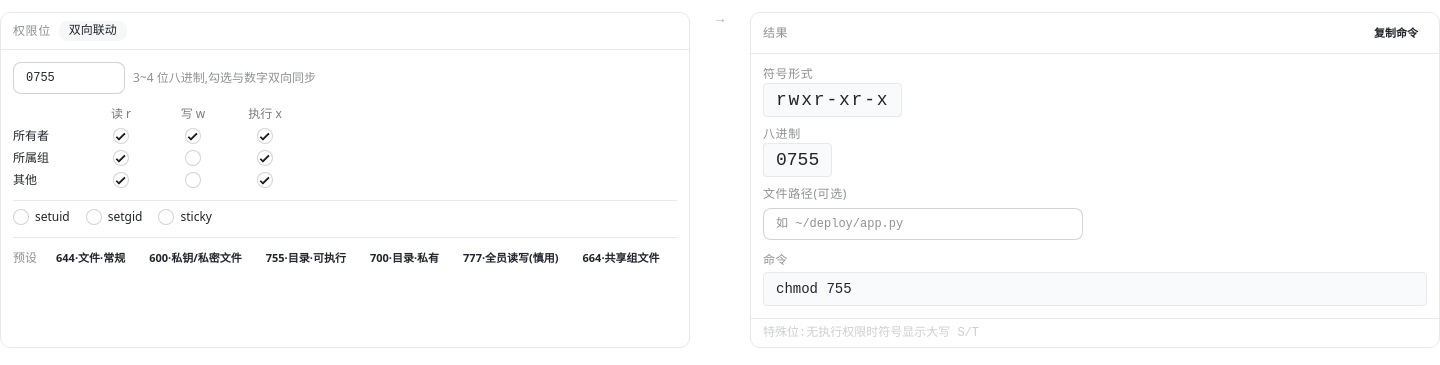
Scenario: ChmodCalc 权限互算 › 八进制输入 644 实时联动符号形式
Replace the text in the field named "八进制" with "644" at point(69, 78), box [13,62,125,94]
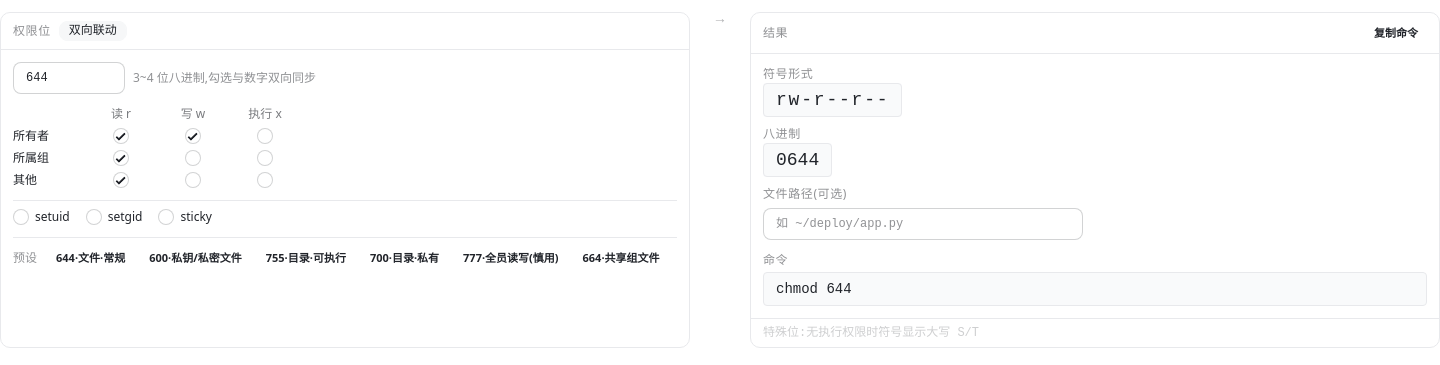
Check: the text "rw-r--r--" is shown, box [763,83,902,117]
Check: the text "chmod 644" is shown, box [763,272,1427,306]
